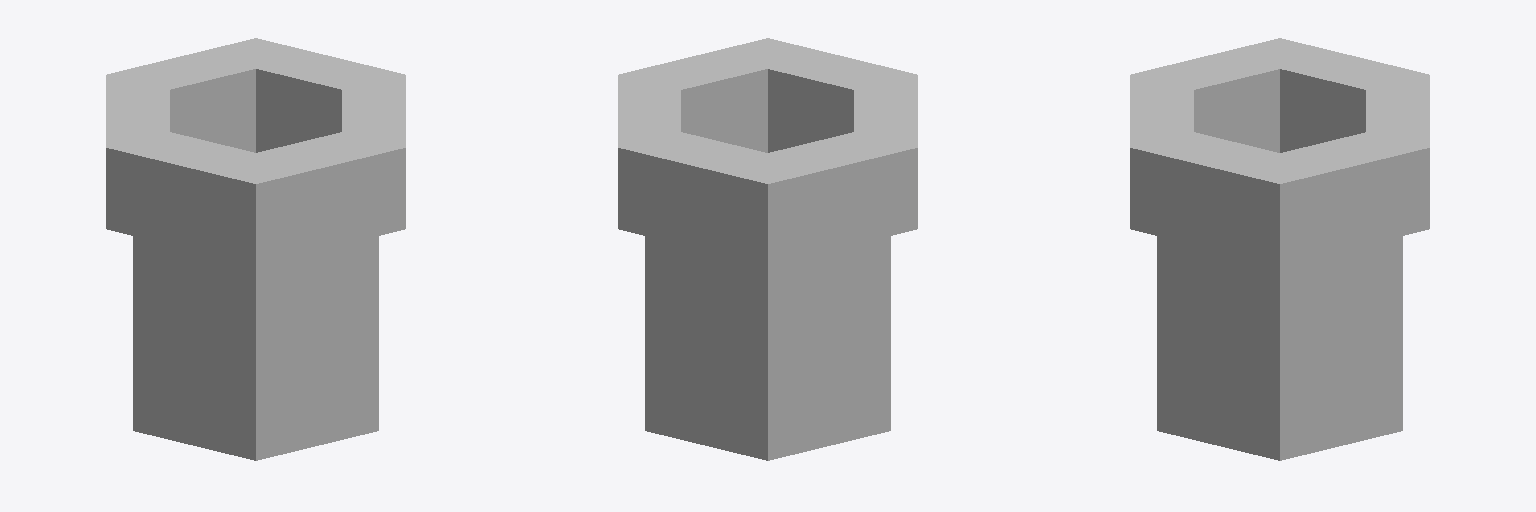
The model's file is GreenPipe.obj.
3 renders of one model, left to right at view 1: azimuth 30°, elevation 25°; view 2: azimuth 150°, elevation 25°; view 3: azimuth 270°, elevation 25°, orthographic.
Visible parts, largest first — view 1: GreenPipe_Cylinder.001; view 2: GreenPipe_Cylinder.001; view 3: GreenPipe_Cylinder.001.
Boxes of the visible parts, <box> form: GreenPipe_Cylinder.001: <box>106,38,405,460</box>; GreenPipe_Cylinder.001: <box>618,38,917,460</box>; GreenPipe_Cylinder.001: <box>1130,38,1429,460</box>.
Bounding box in the file's own units: 1.09 × 1.01 × 0.9476.